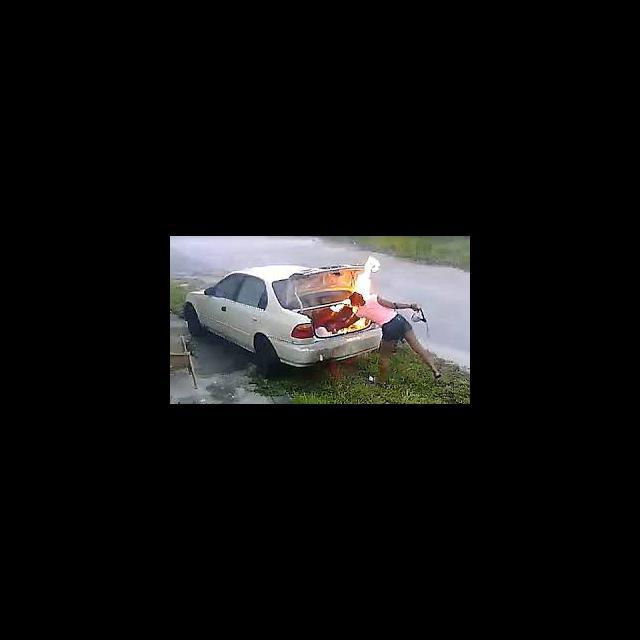Fire: (352, 256, 382, 298), (354, 318, 367, 330)
